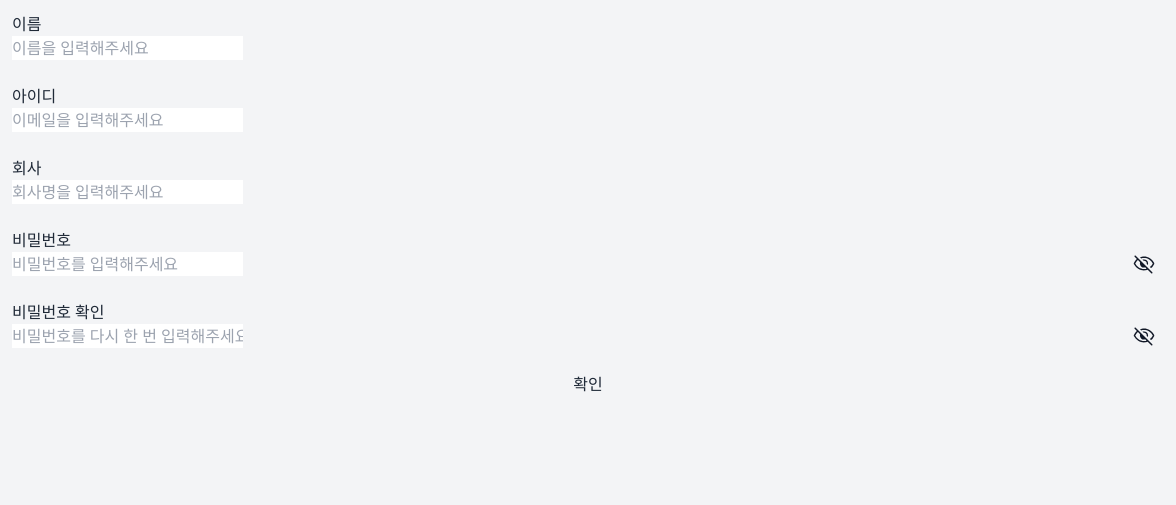
회원가입 폼 › 유효성 검사 실패 › 비밀번호 확인이 일치하지 않을 경우
Type "test1234*" into the password field with placeholder "비밀번호를 입력해주세요" at coordinates (128, 264), box [12, 252, 243, 276]
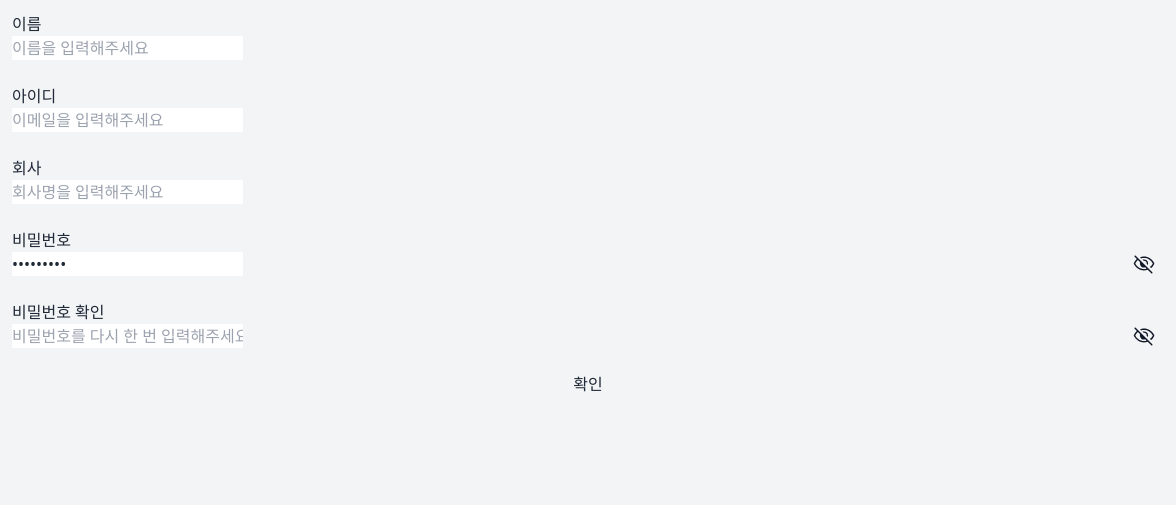
Type "test1234" into the password field with placeholder "비밀번호를 다시 한 번 입력해주세요" at coordinates (128, 336), box [12, 324, 243, 348]
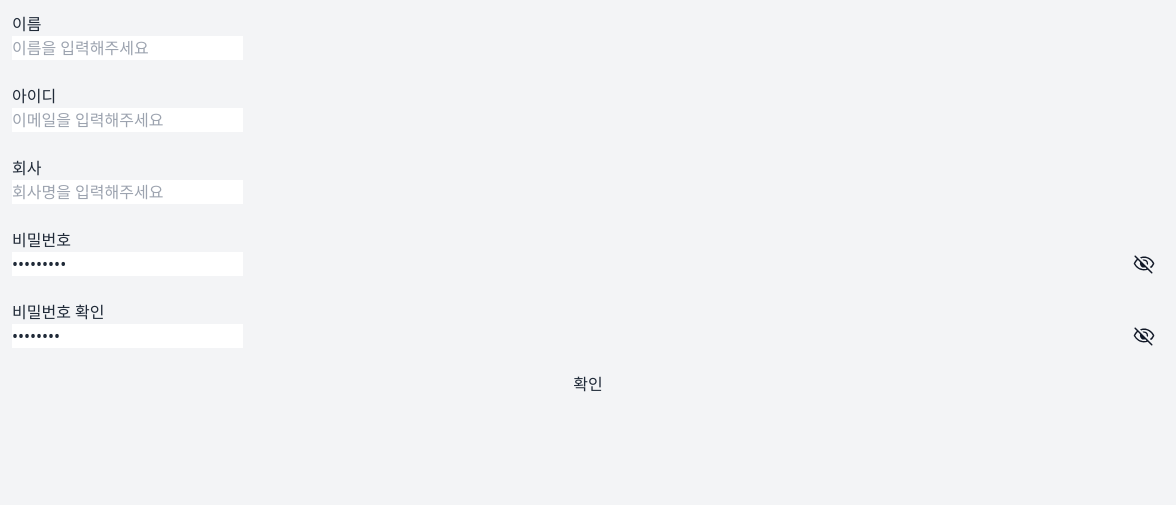
Submit the form from the button "확인", box [12, 372, 1164, 396]
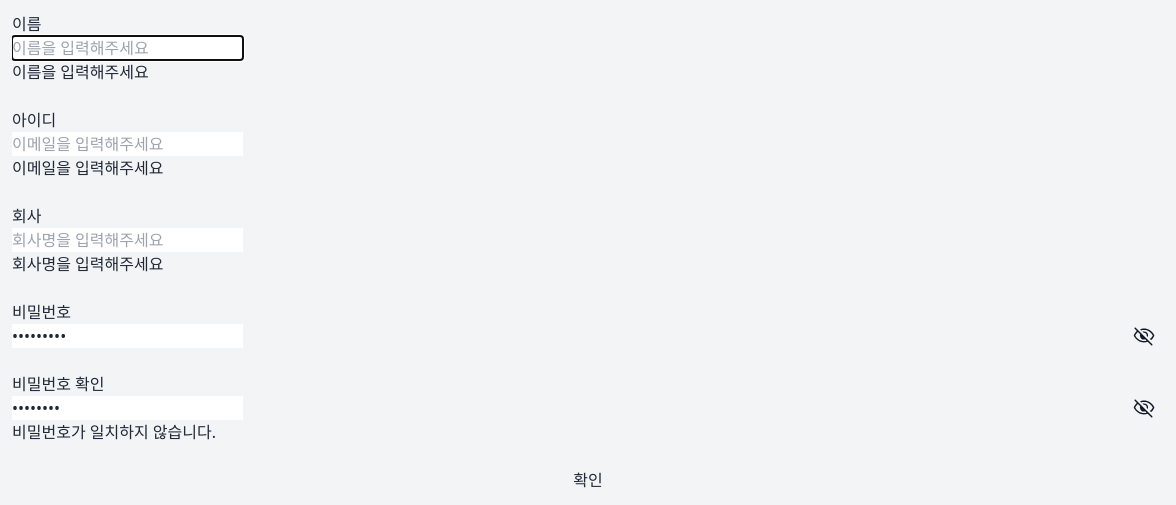
Expected: the text "비밀번호가 일치하지 않습니다." is shown, [12, 421, 216, 443]
